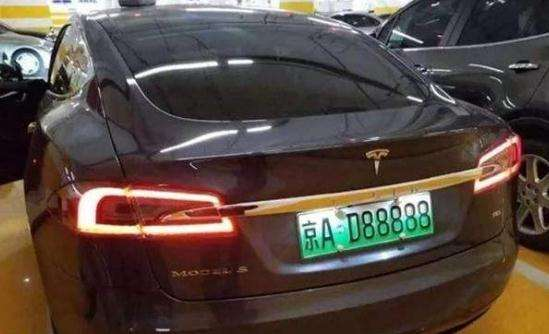plate: (290, 178, 441, 271)
